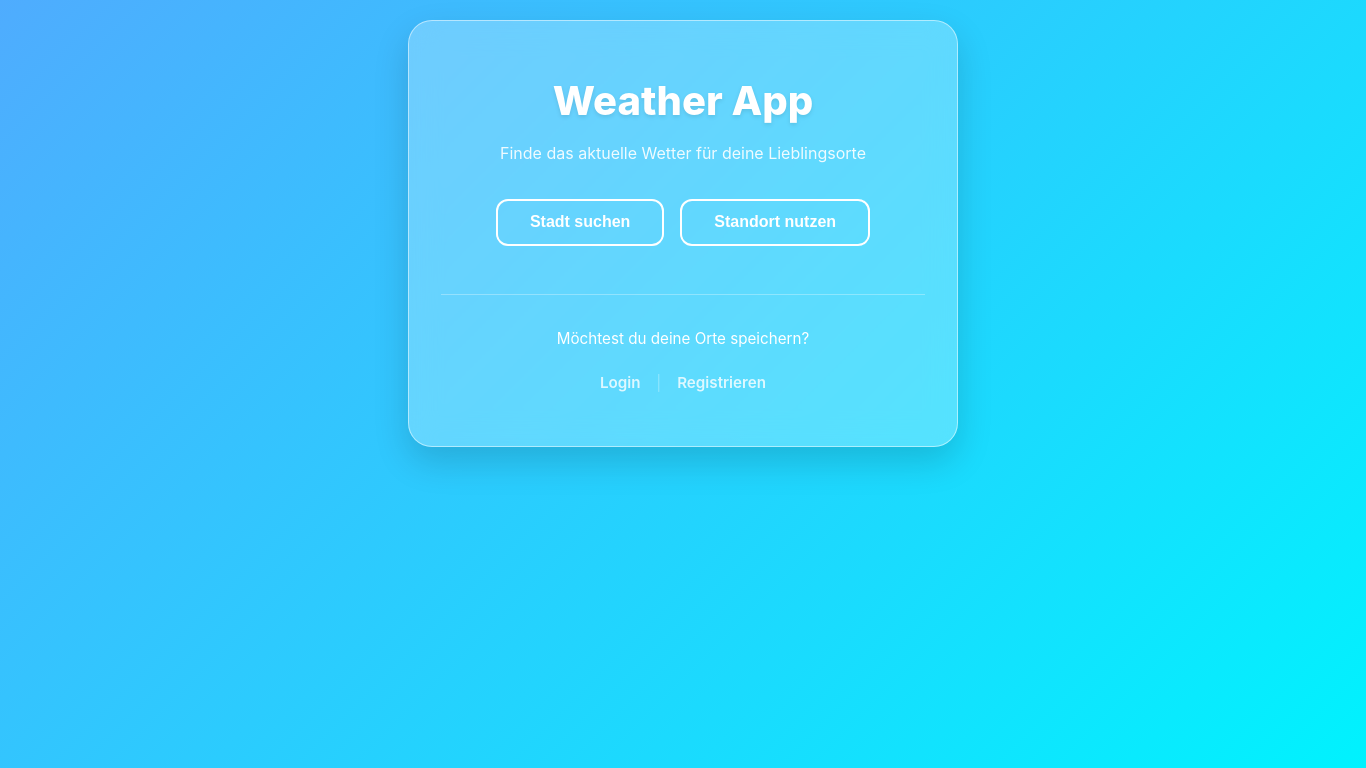
Test case: HomeView › Test 6: Löst API-Suche zum Backend aus und zeigt Ergebnisse
# Suchmodus aktivieren
Click the button with class "outline" showing "Stadt suchen": (580, 222) [496, 199, 664, 246]
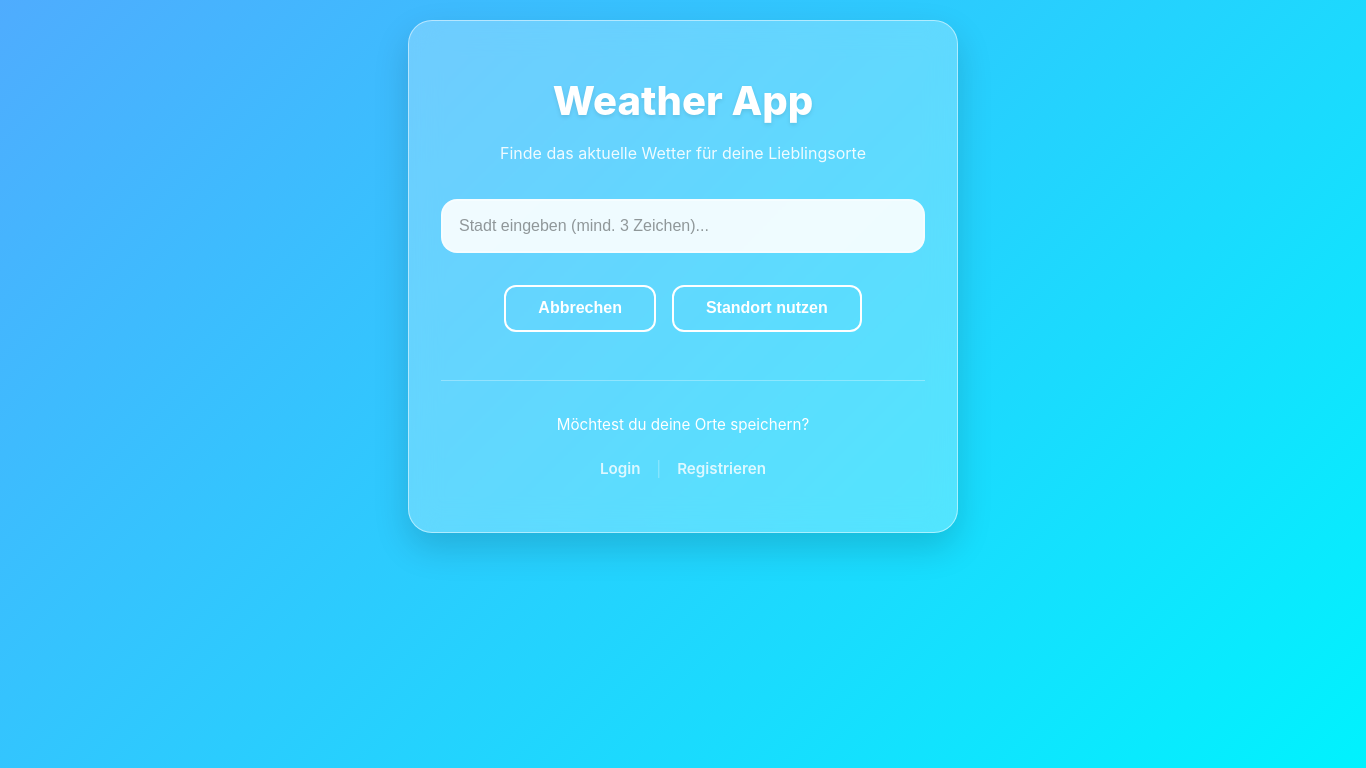
# Suchbegriff eingeben
In the field with class "search-input": (683, 226) [441, 199, 925, 253], type "Ber"
Wait 1000 ms
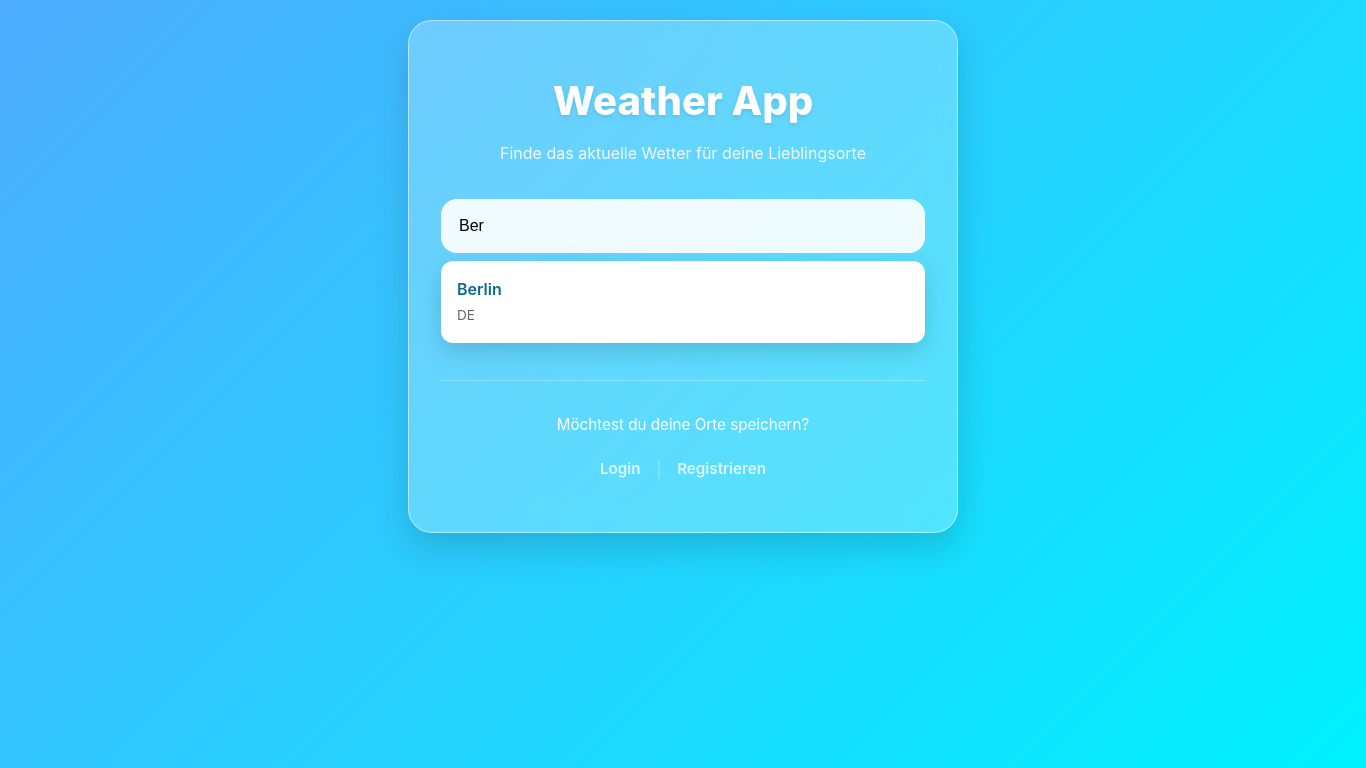
Check: the text "Berlin" is shown, box [457, 277, 502, 302]
